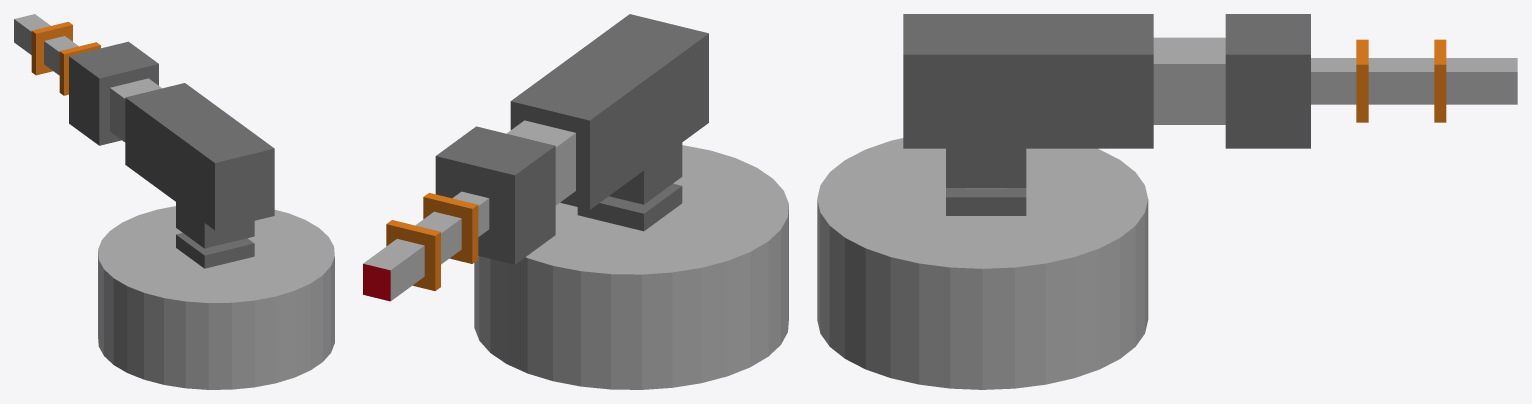
File: turret1.fbx
The picture shows the model from 3 angles, left to right: view 1: azimuth 30°, elevation 25°; view 2: azimuth 150°, elevation 25°; view 3: azimuth 270°, elevation 25°; orthographic projection. The views are drawn at different scales.
Parts seen in each view (by area): view 1: Cylinder; view 2: Cylinder; view 3: Cylinder.
Boxes of the visible parts, x1,y1,x2,y2 form: Cylinder: [14, 14, 334, 389]; Cylinder: [363, 14, 788, 389]; Cylinder: [817, 14, 1517, 389].
Bounding box in the file's own units: 160 × 152 × 339.
